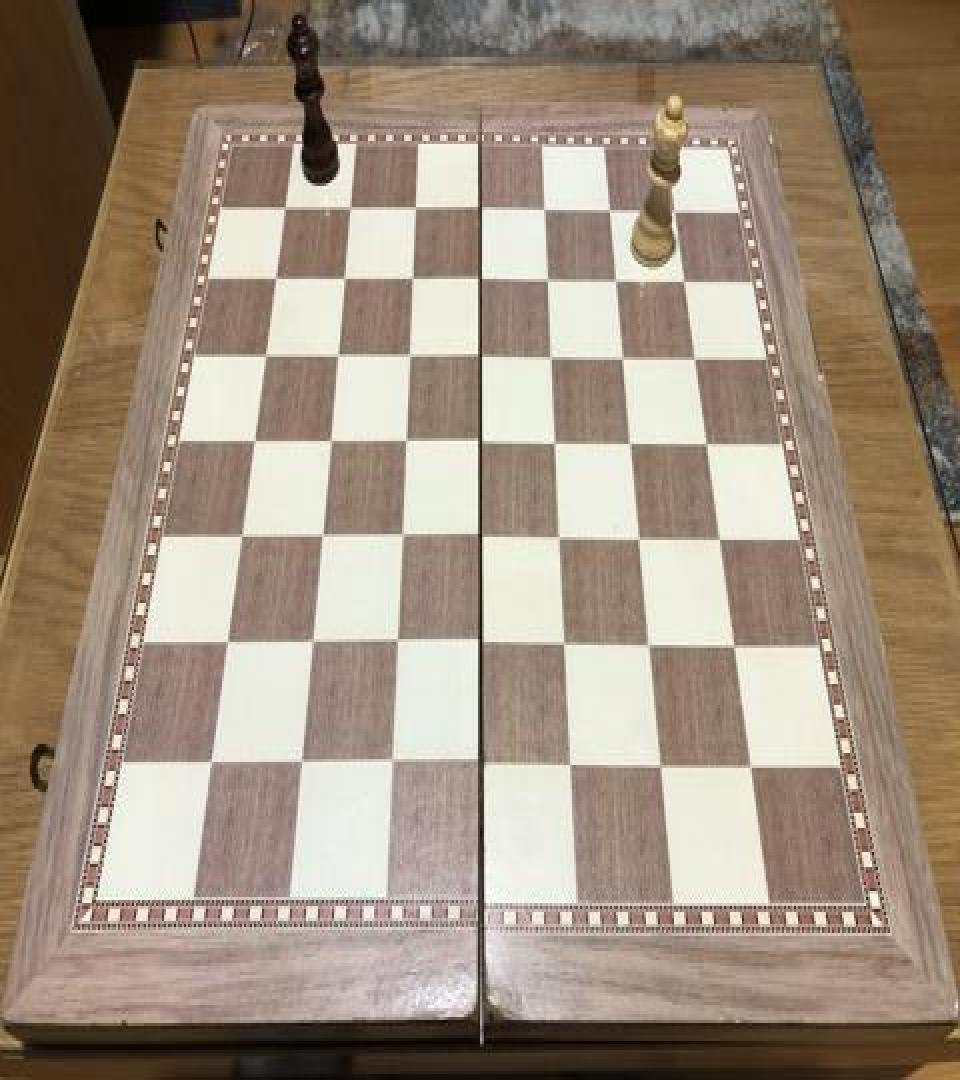xcorner: (725, 631, 749, 668), (641, 631, 665, 668), (556, 631, 580, 668), (667, 195, 691, 231), (602, 195, 626, 231), (536, 195, 560, 231), (471, 194, 495, 230), (406, 194, 430, 230), (340, 194, 364, 230), (275, 194, 299, 230), (676, 266, 700, 302), (608, 266, 632, 302), (540, 266, 564, 302), (471, 266, 495, 302), (403, 264, 427, 300), (334, 264, 358, 300), (266, 264, 290, 300), (471, 342, 495, 378), (399, 342, 423, 378), (327, 342, 351, 378), (256, 342, 280, 378), (698, 429, 722, 465), (623, 429, 647, 465), (547, 429, 571, 465), (471, 429, 495, 465), (396, 429, 420, 465), (320, 428, 344, 464), (244, 428, 268, 464), (711, 525, 735, 561), (631, 525, 655, 561), (551, 524, 575, 560), (471, 524, 495, 560), (392, 524, 416, 560), (312, 524, 336, 560), (232, 524, 256, 560), (472, 630, 496, 666), (387, 630, 411, 666), (302, 630, 326, 666), (218, 630, 242, 666), (741, 752, 765, 788), (651, 752, 675, 788), (561, 752, 585, 788), (472, 750, 496, 786), (382, 750, 406, 786), (292, 750, 316, 786), (202, 750, 226, 786), (687, 344, 711, 379), (615, 344, 639, 379), (543, 344, 567, 379)
